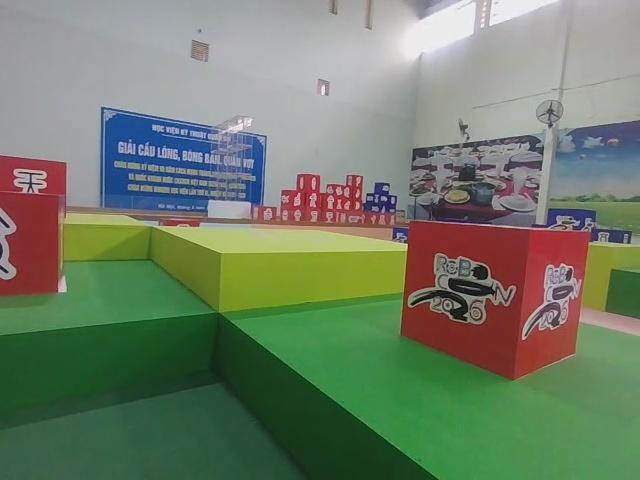R1: (396, 215, 592, 383)
